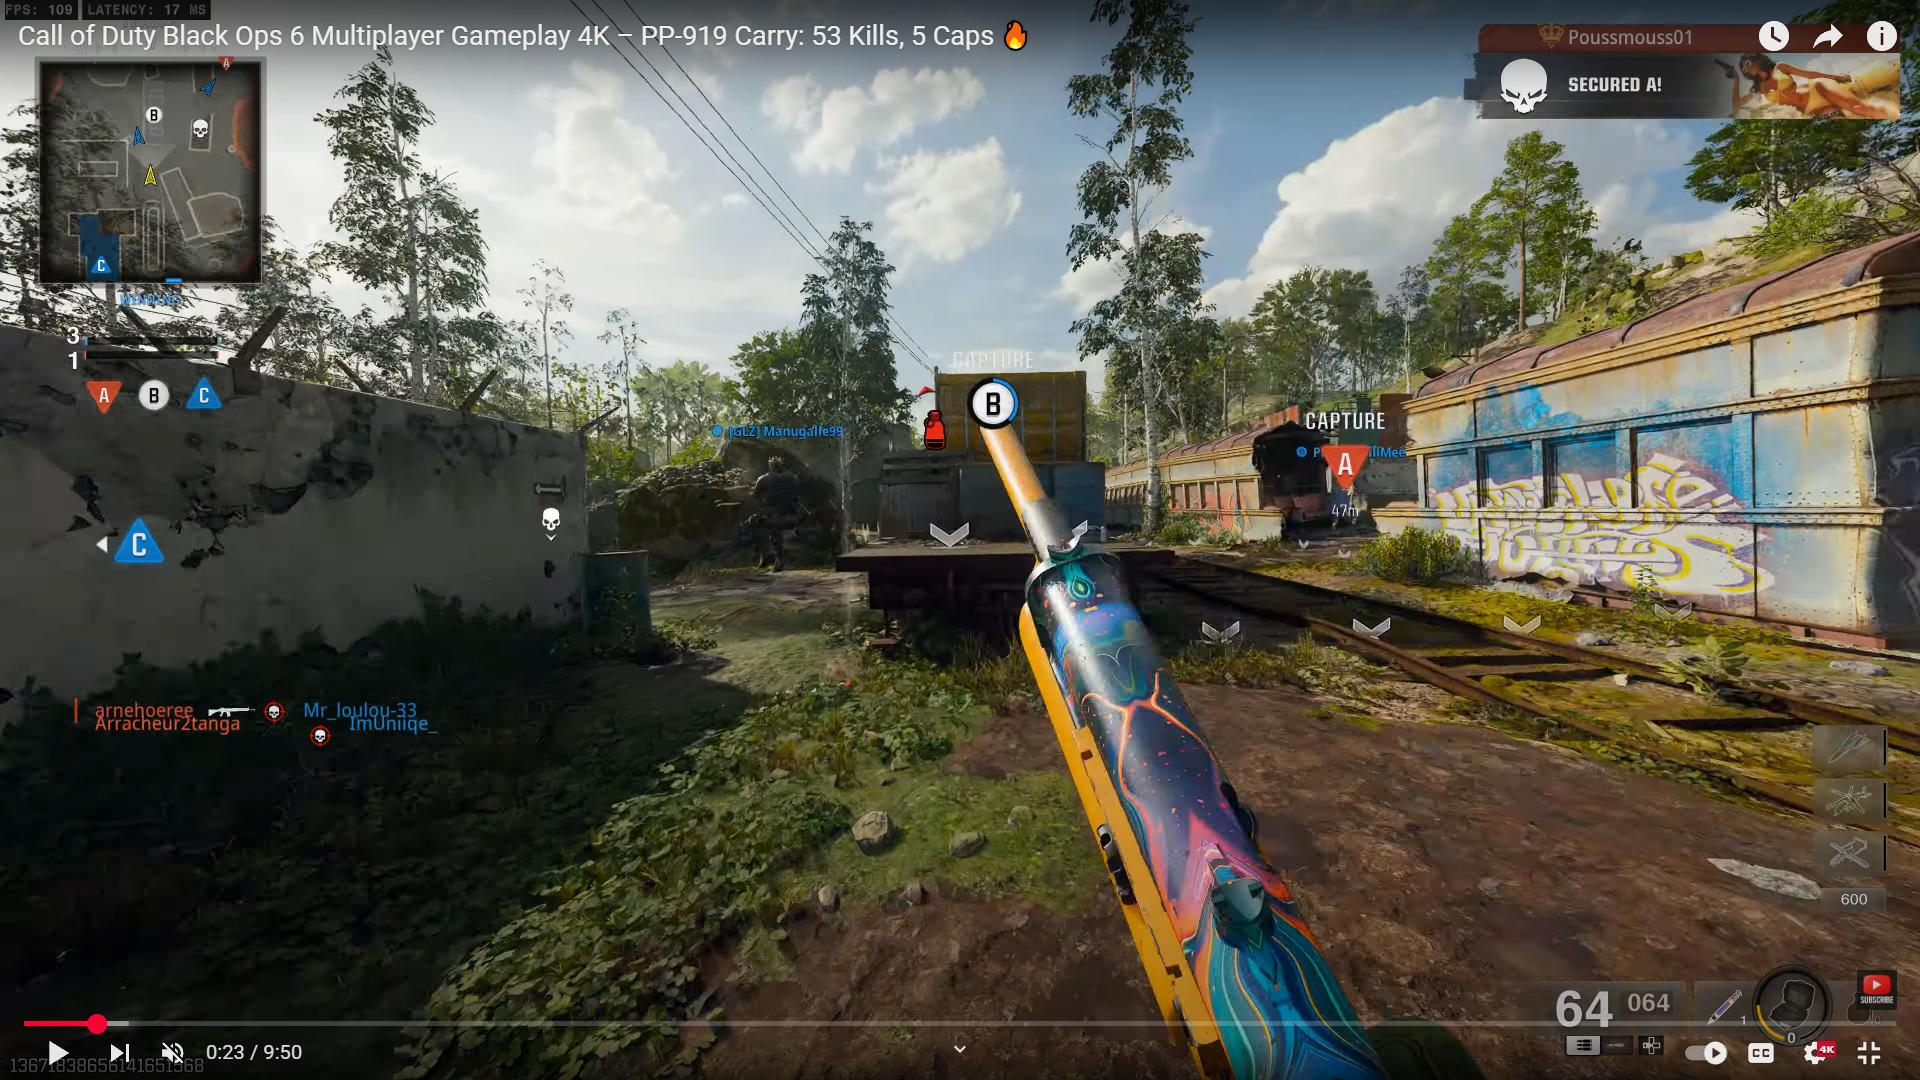Enemy: (741, 451, 803, 567)
